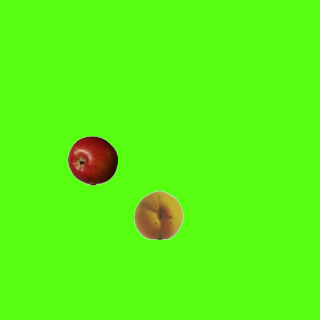Apple Braeburn: (67, 135, 117, 185)
Peach 2: (133, 189, 183, 239)
